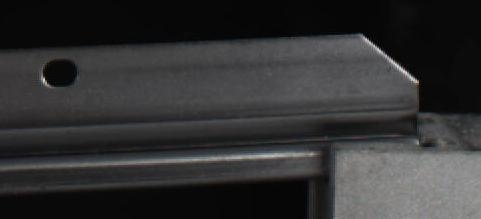cut: (305, 33, 421, 172)
holes: (39, 57, 80, 88)
